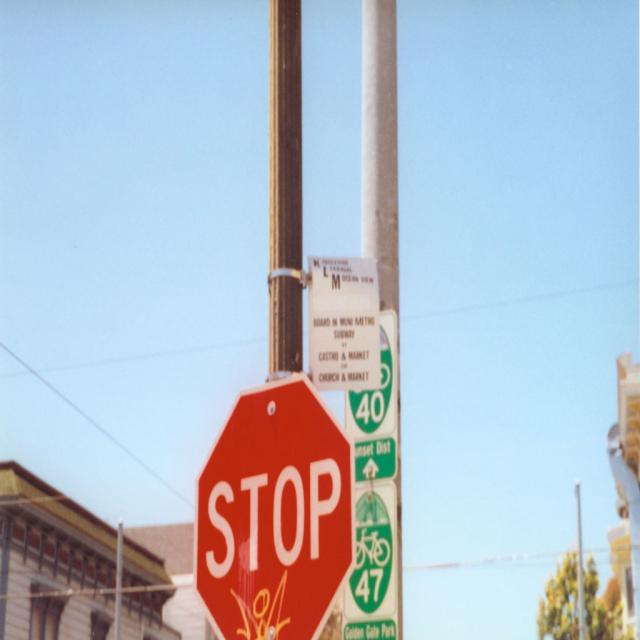Stop-sign: (192, 372, 358, 640)
